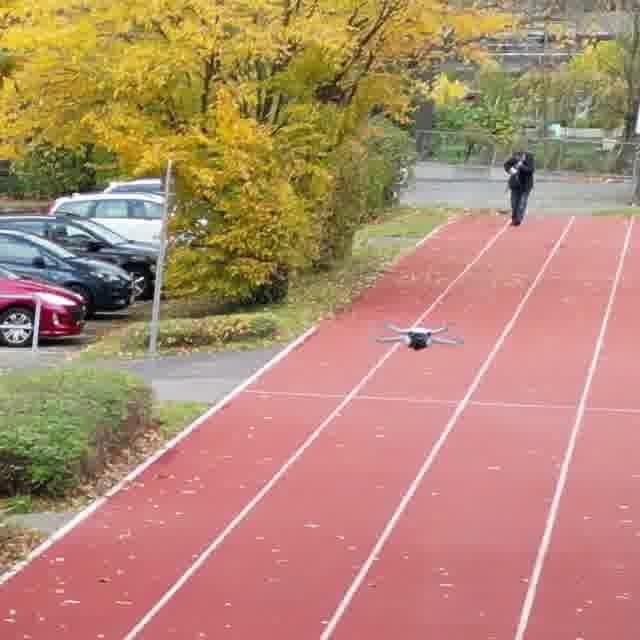Drohne: (377, 324, 463, 350)
